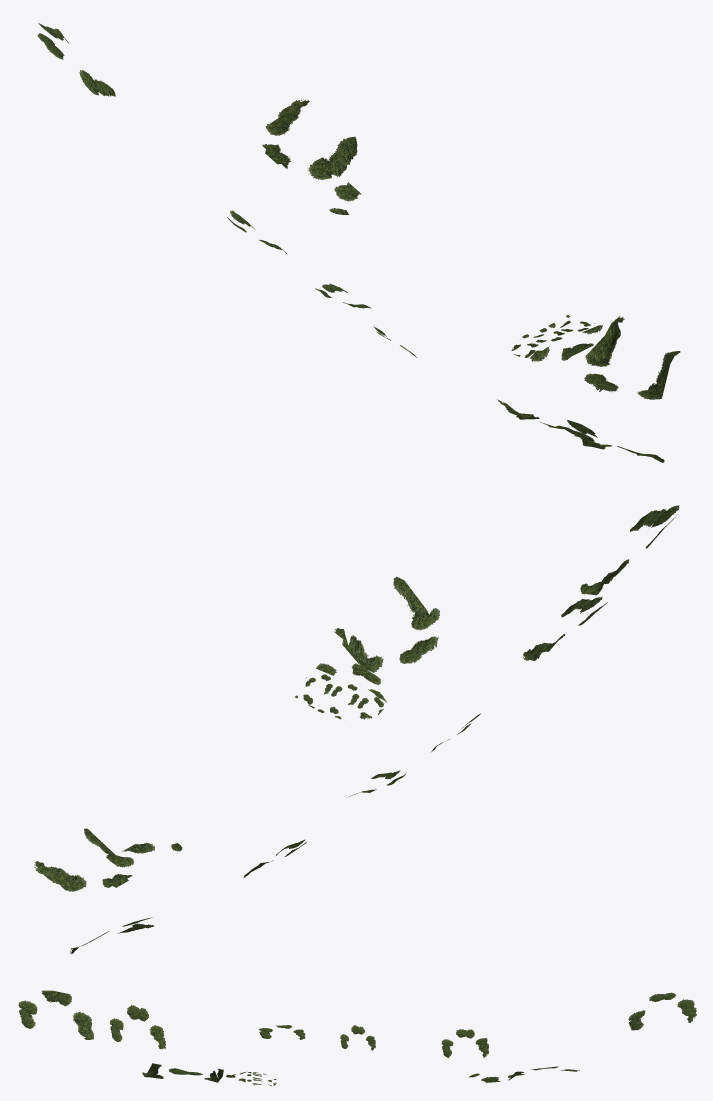
File: STA20_65.FBX
3 views of the same model, one above another, from view 1: azimuth 30°, elevation 25°; view 2: azimuth 150°, elevation 25°; view 3: azimuth 270°, elevation 25° (orthographic). The views are drawn at different scales.
Parts seen in each view (by area): view 1: STA20_65; view 2: STA20_65; view 3: STA20_65.
Boxes of the visible parts, box(x1,y1,x2,y2) form: STA20_65: box(37, 23, 680, 462); STA20_65: box(34, 505, 679, 954); STA20_65: box(18, 990, 696, 1086).
Bounding box in the file's own units: 301 × 146 × 1442.
